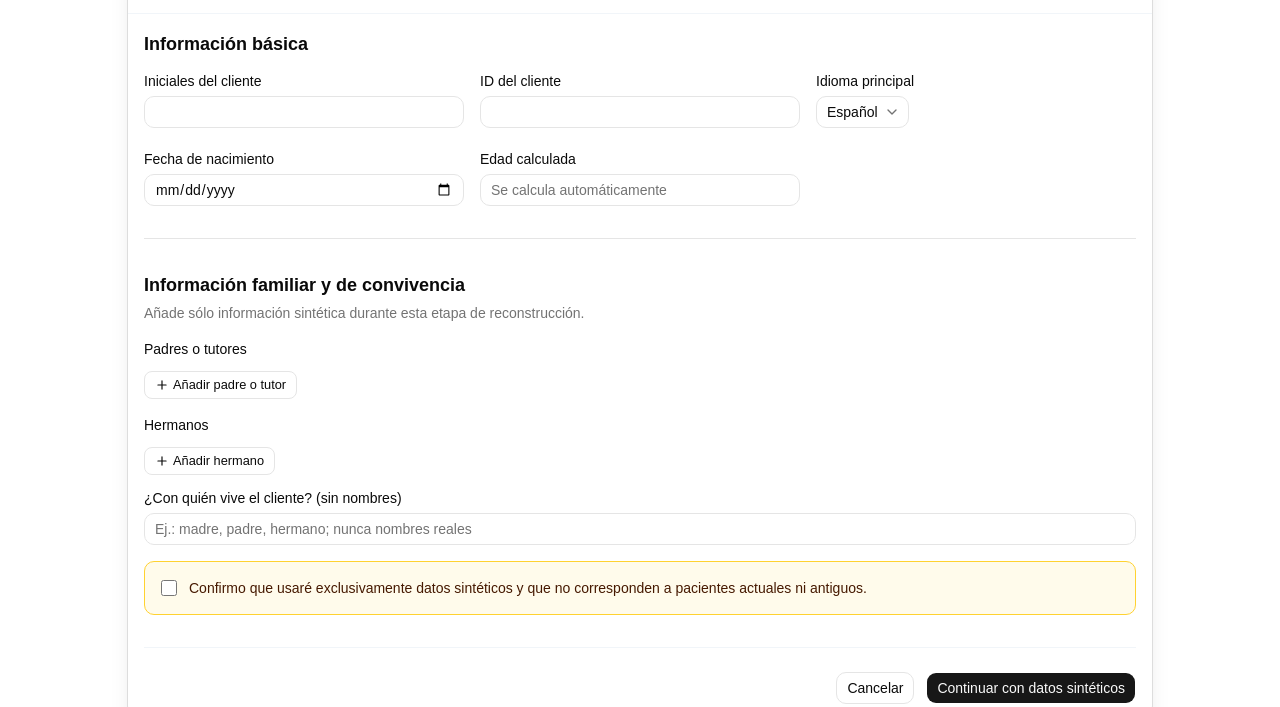
Test: ClientForm › bloquea el alta sin campos obligatorios y muestra resumen accesible
(page scrolled)
Click the button "Continuar con datos sintéticos". click: (1031, 688)
box: x1=926 y1=672 x2=1136 y2=704
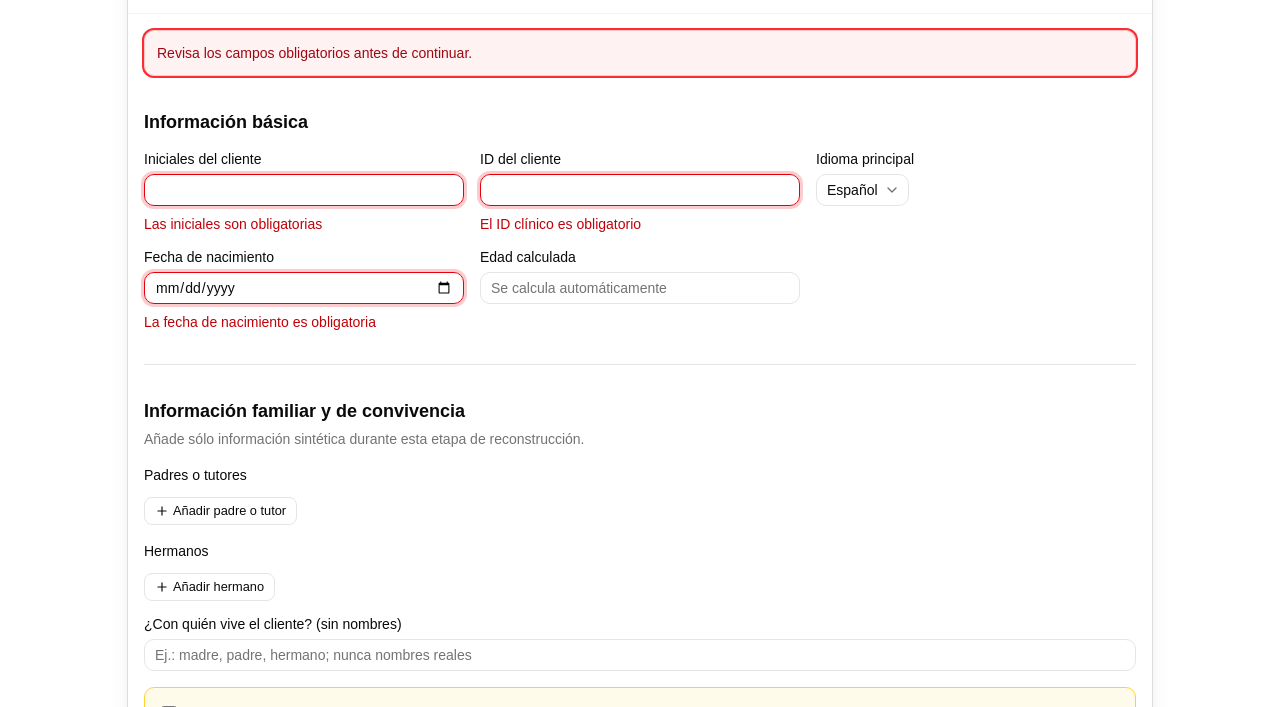
Now the message shows "Revisa los campos obligatorios", box x1=157 y1=45 x2=472 y2=61
Now the text "Las iniciales son obligatorias" is shown, box x1=144 y1=216 x2=322 y2=232
Now the text "El ID clínico es obligatorio" is shown, box x1=480 y1=216 x2=641 y2=232
